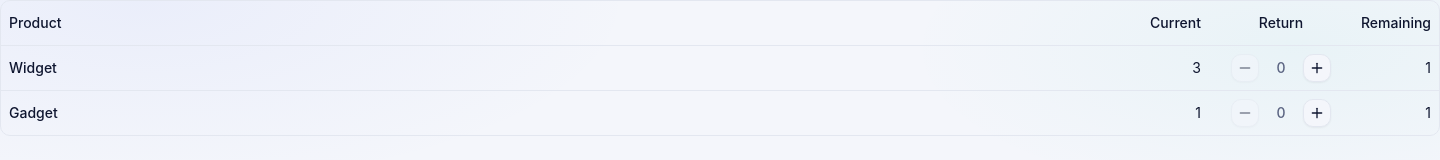
Test case: ReturnItemPicker maxQty caps › caps the stepper at the remaining quantity, not the ordered quantity
Click the button named "Increase return quantity for Widget" at (1317,68), box 1303,54 -> 1331,82
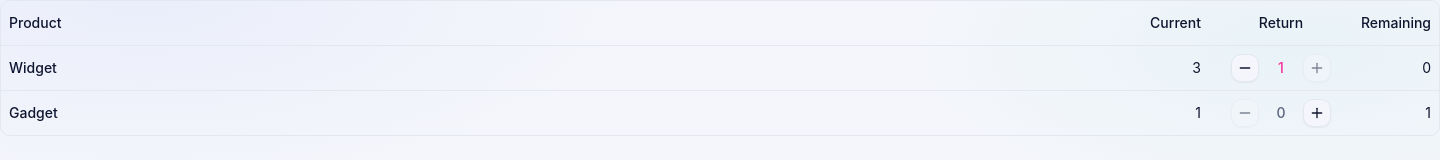
Result: the button named "Increase return quantity for Widget" is disabled at 1303,54 -> 1331,82
